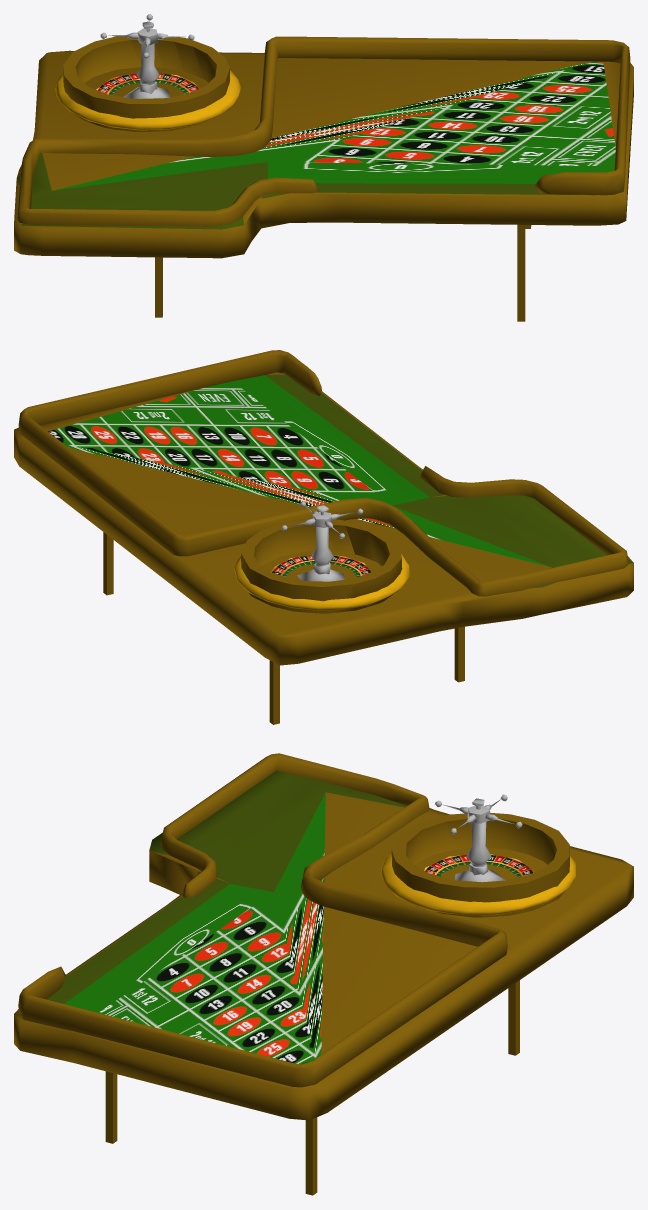
File: ruletaMar.fbx
3 views of the same model, one above another, from view 1: azimuth 30°, elevation 25°; view 2: azimuth 150°, elevation 25°; view 3: azimuth 270°, elevation 25° (orthographic). The views are drawn at different scales.
Visible parts, largest first — view 1: polySurface2558; view 2: polySurface2558; view 3: polySurface2558.
Boxes of the visible parts, <box> form: polySurface2558: <box>14,14,633,321</box>; polySurface2558: <box>14,350,633,724</box>; polySurface2558: <box>14,753,633,1195</box>.
Size of the model in its own units: 2327 by 781 by 1867.
Materials: 12 (2 with a texture image).
